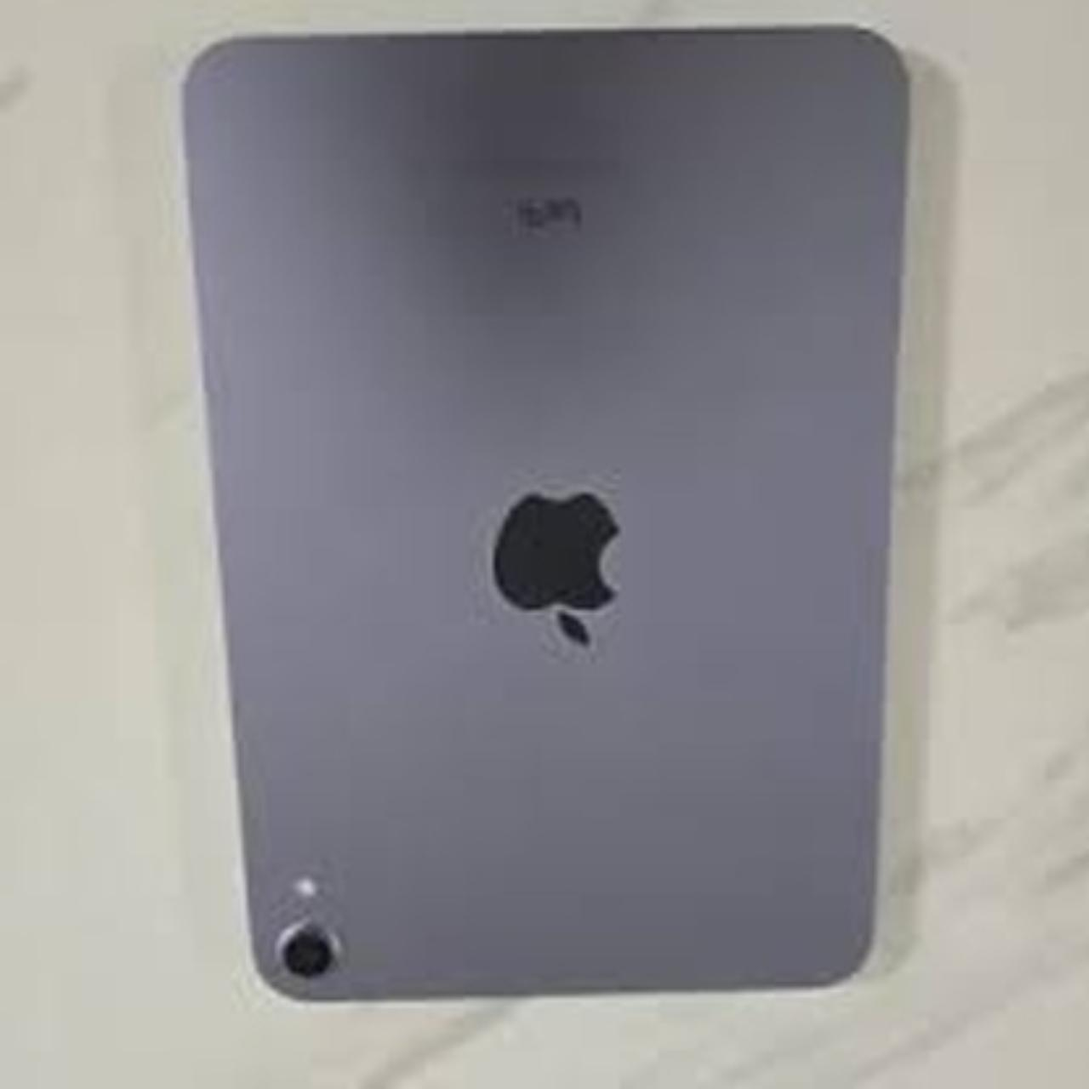Tablet_PC: (160, 18, 937, 1018)
